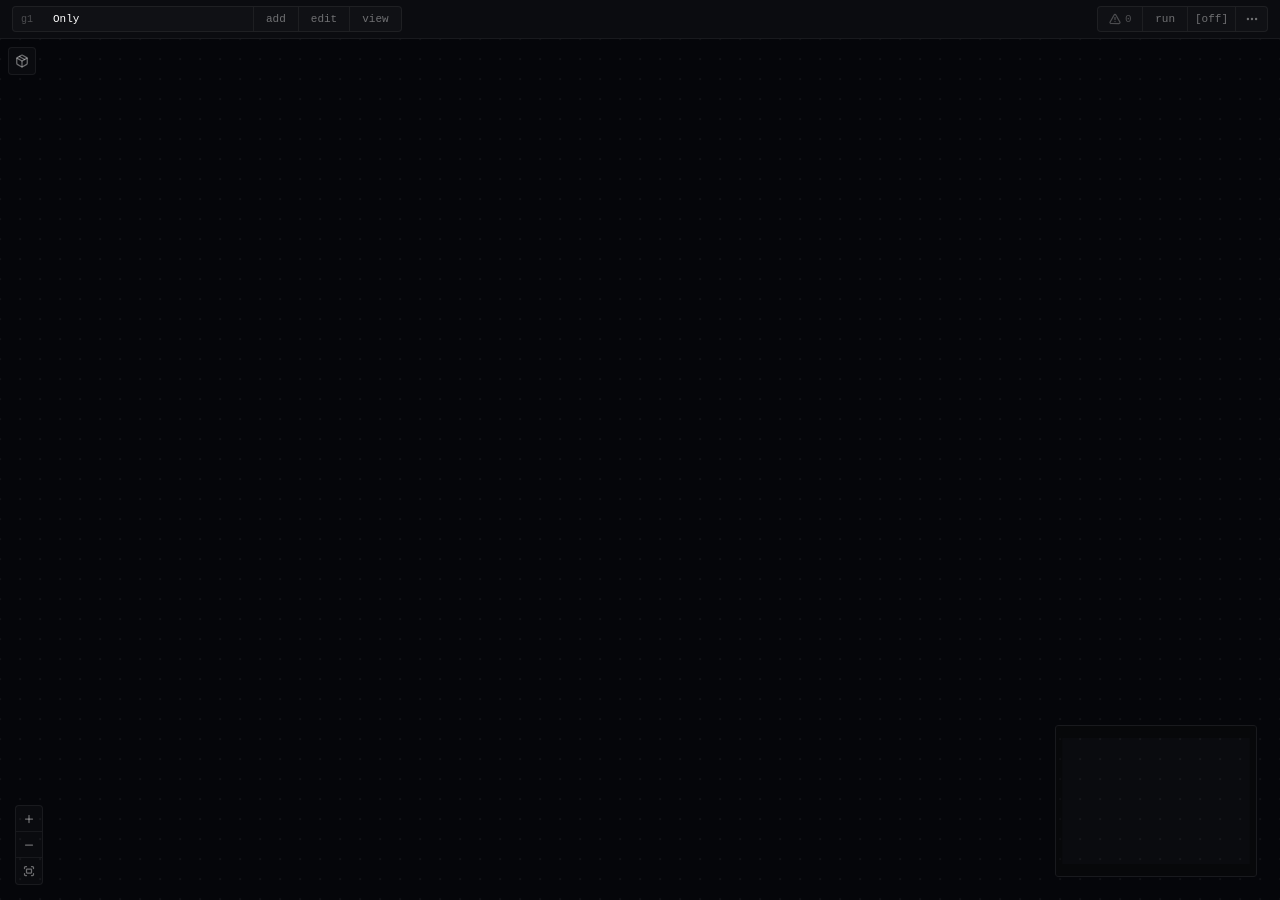
it: the scheduler editor warns about a stop › shows a failed run as two words, with the reason in a bubble
Click the button "run". click: [1165, 19]
box: [1143,7,1187,31]
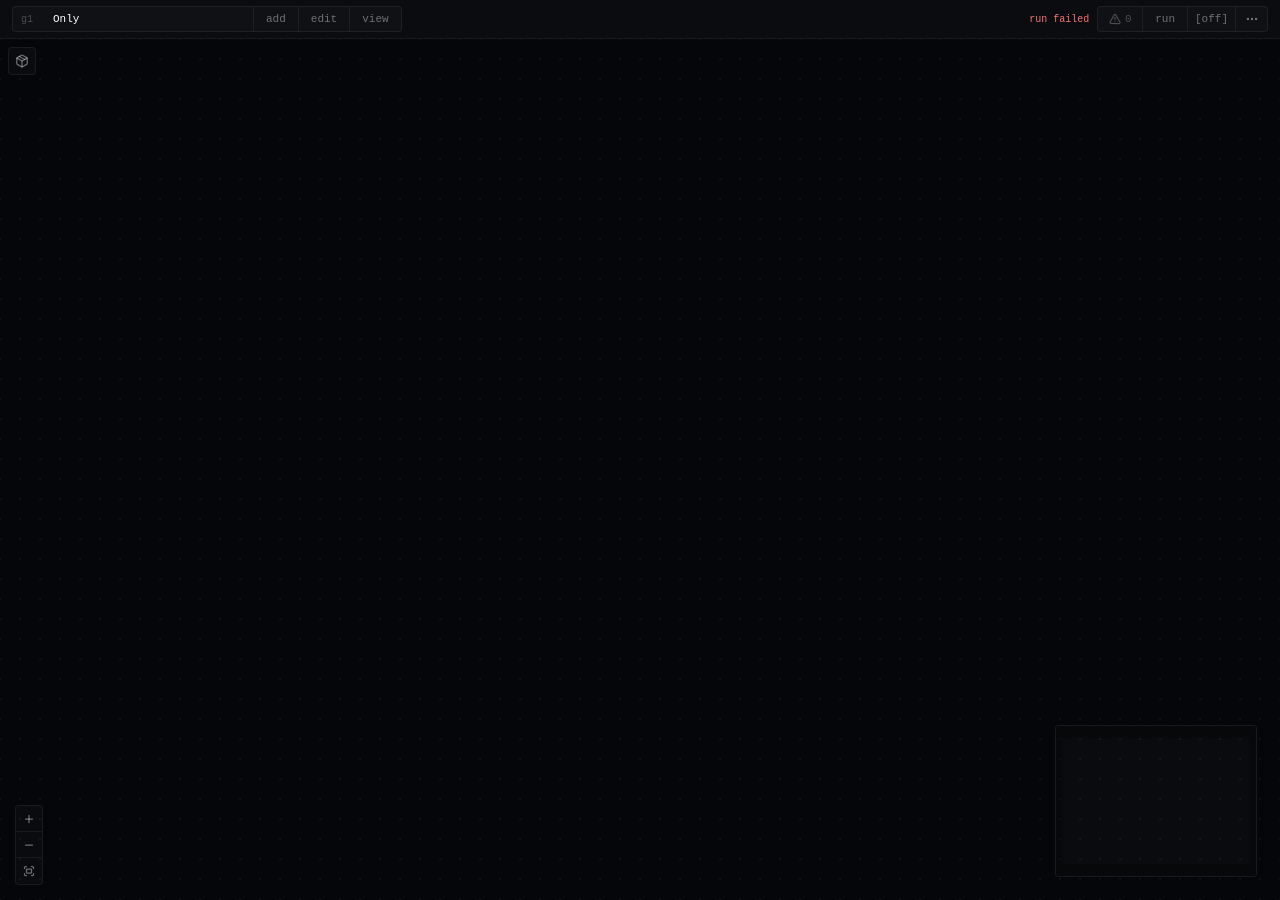
// Clicking it brings the reason back in that bubble and clears the toolbar.
Click the button "run failed". click: [1059, 19]
box: [1029,12,1089,26]
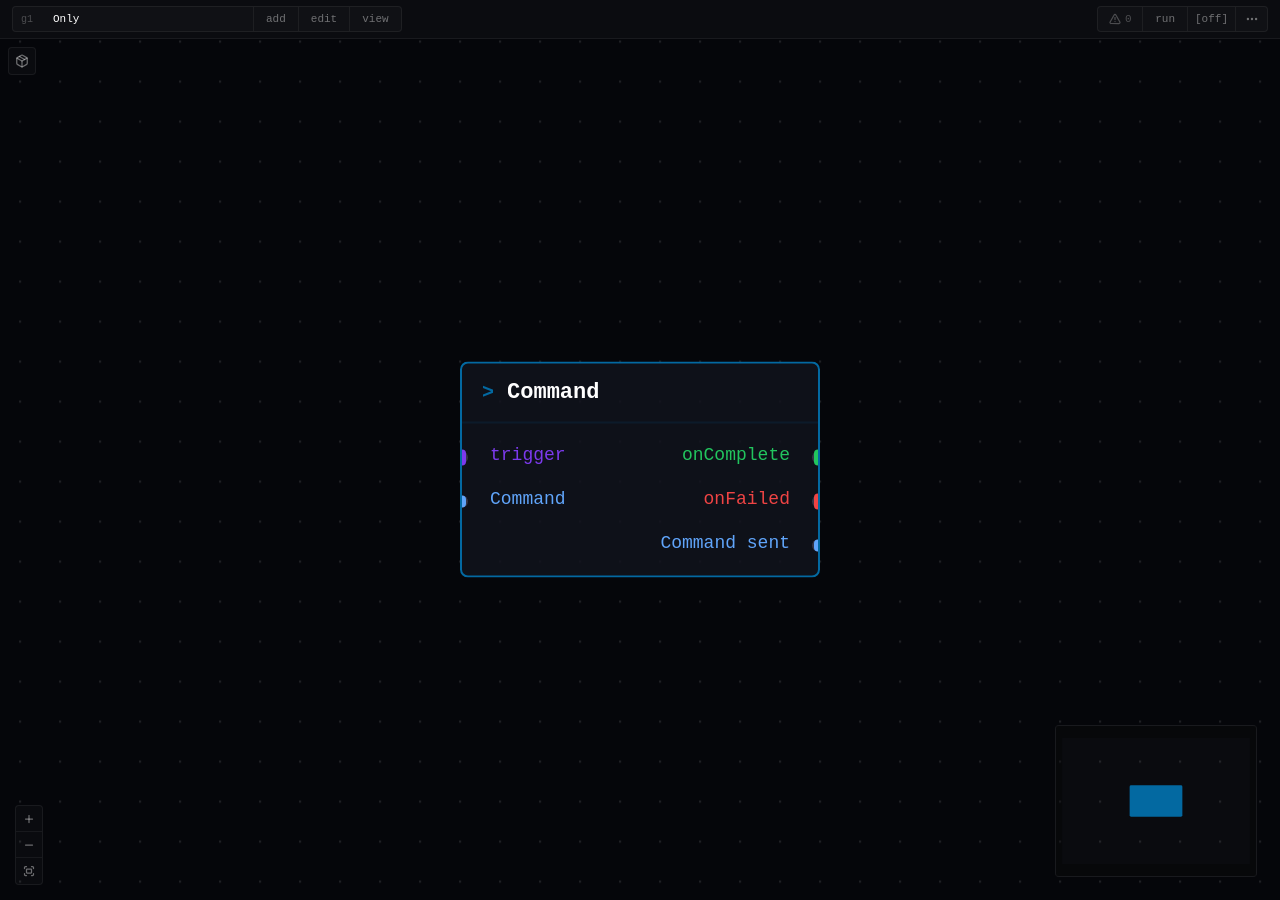
Expected: the button "run failed" is gone
